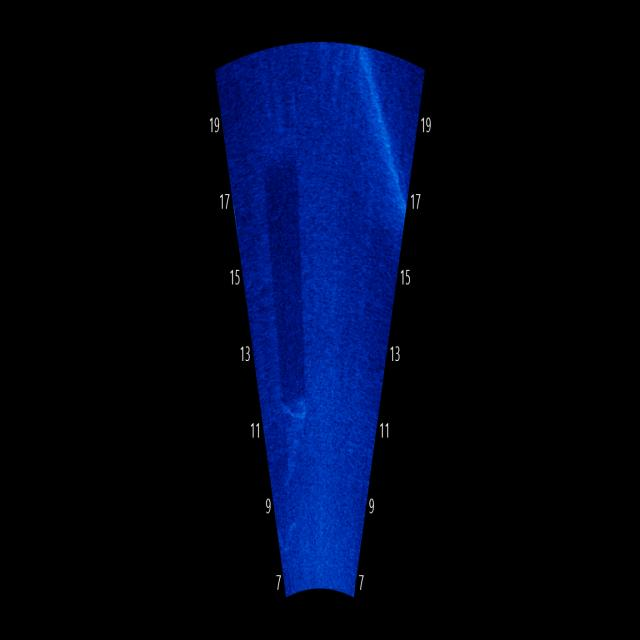triangle: (282, 394, 309, 485)
